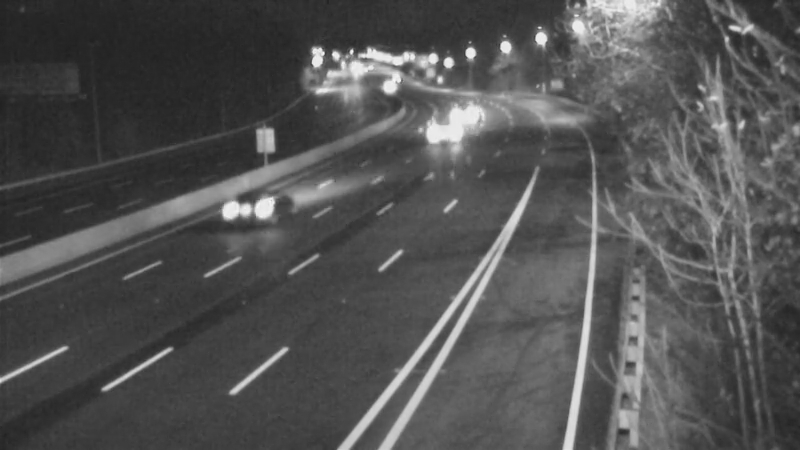vehicle: (210, 170, 290, 250), (437, 88, 487, 138), (424, 106, 474, 156)
